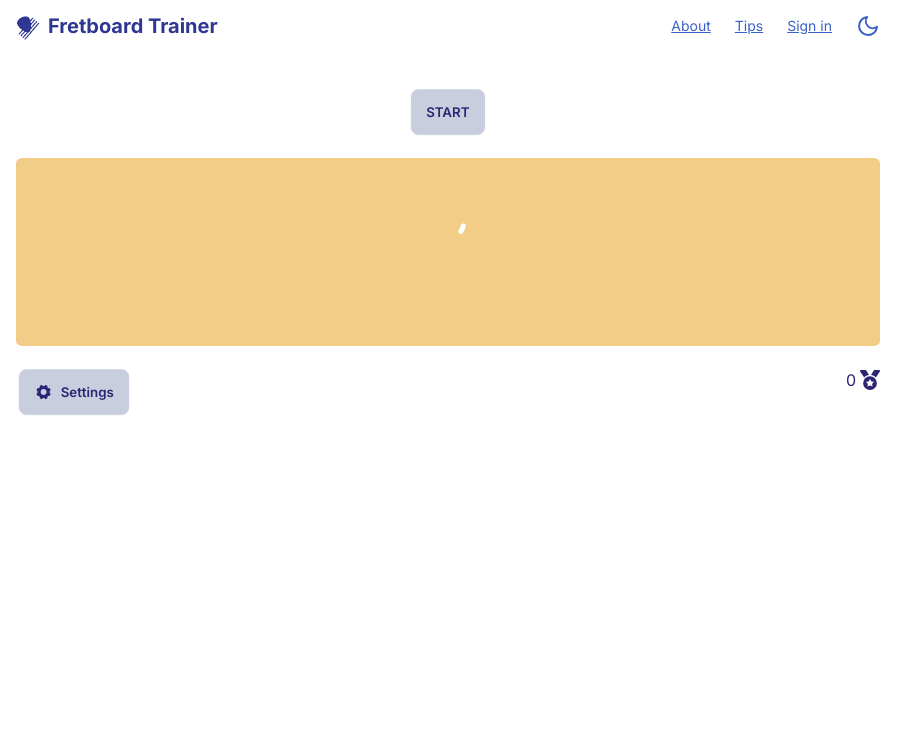
Test: Header Navigation › should navigate to the About page
The image size is (897, 748).
Click the link "About".
click(691, 26)  # box [671,16,711,36]
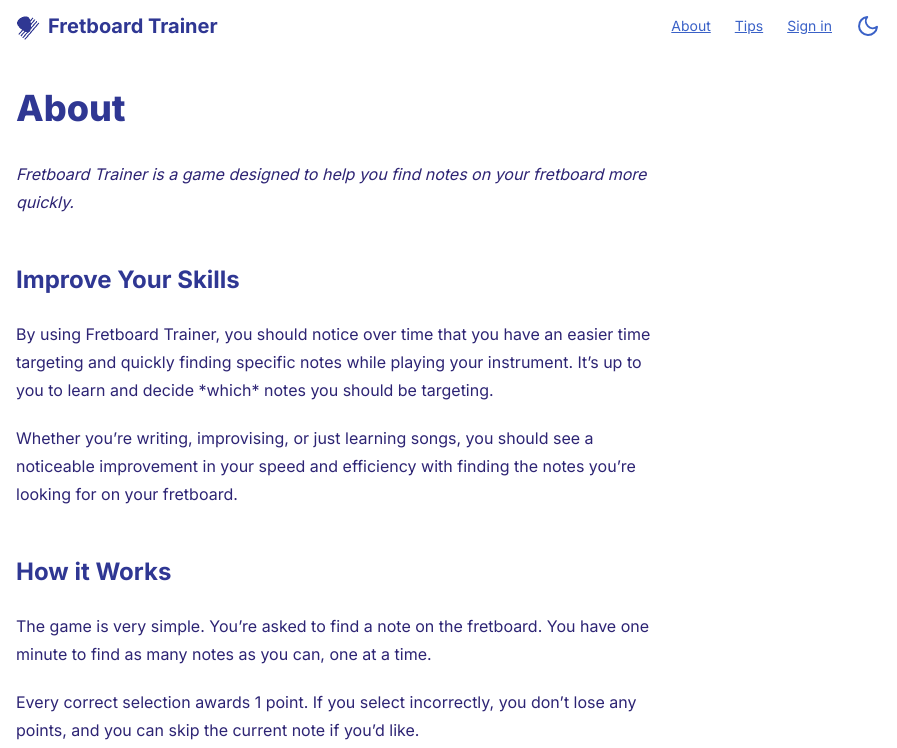
Expected: the heading "About" is shown, [16,86,126,130]
